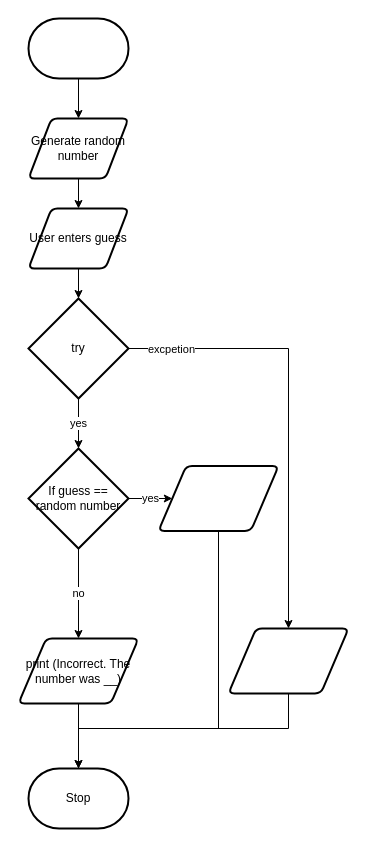
Image size: 366x854. Some labels were removed from this diagram. Here are the shapes that lost their labels. From the top down, the box of each, then its label:
(27, 17, 129, 79): Start
(157, 464, 279, 532): print (correct!)
(227, 627, 349, 694): print (This value is not an integer!)
